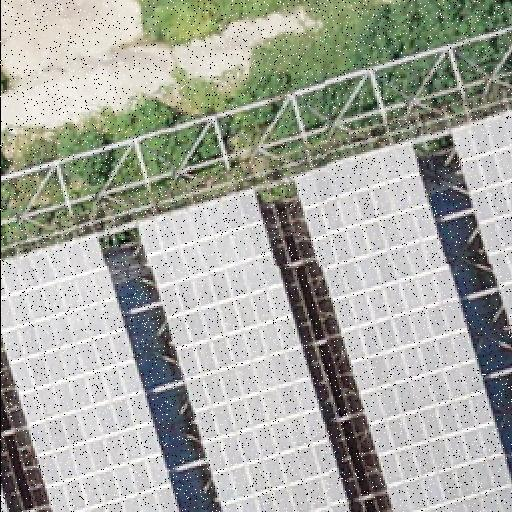solar-panel: (289, 140, 511, 512), (134, 188, 350, 512), (0, 232, 180, 512), (448, 112, 512, 344), (0, 484, 8, 512)
